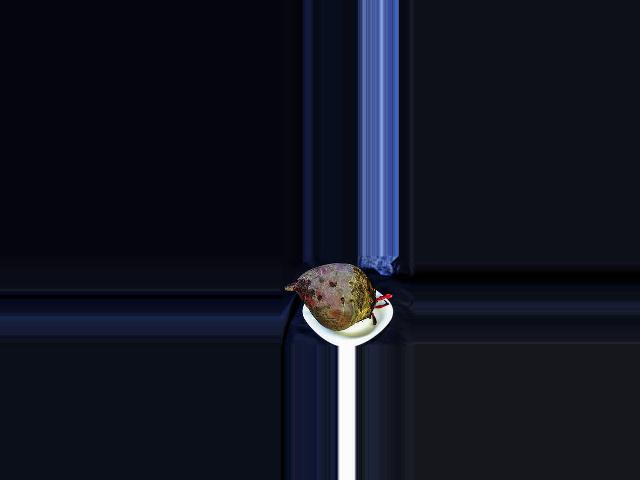beet: (285, 264, 392, 330)
